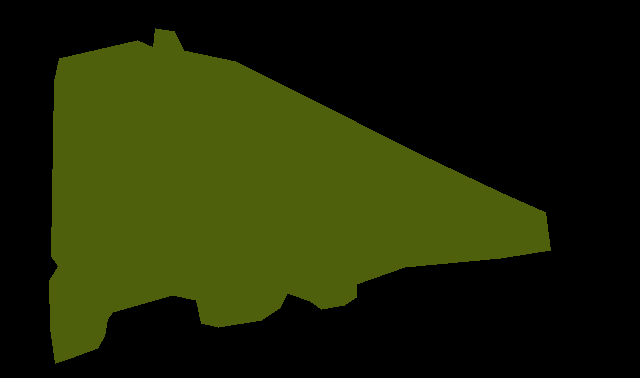Train: (49, 28, 550, 363)
